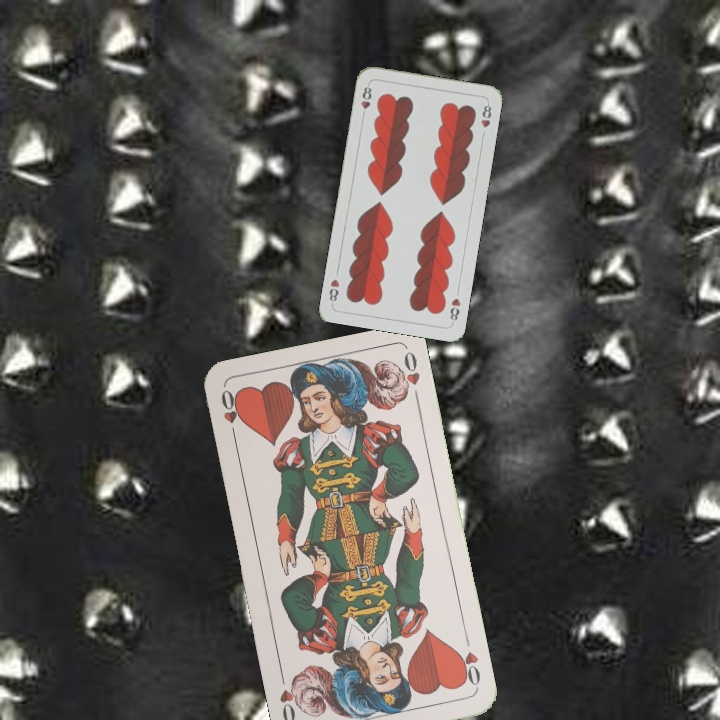H8: (357, 80, 374, 120), (446, 294, 463, 326)
HO: (453, 632, 483, 690), (217, 385, 244, 444)
